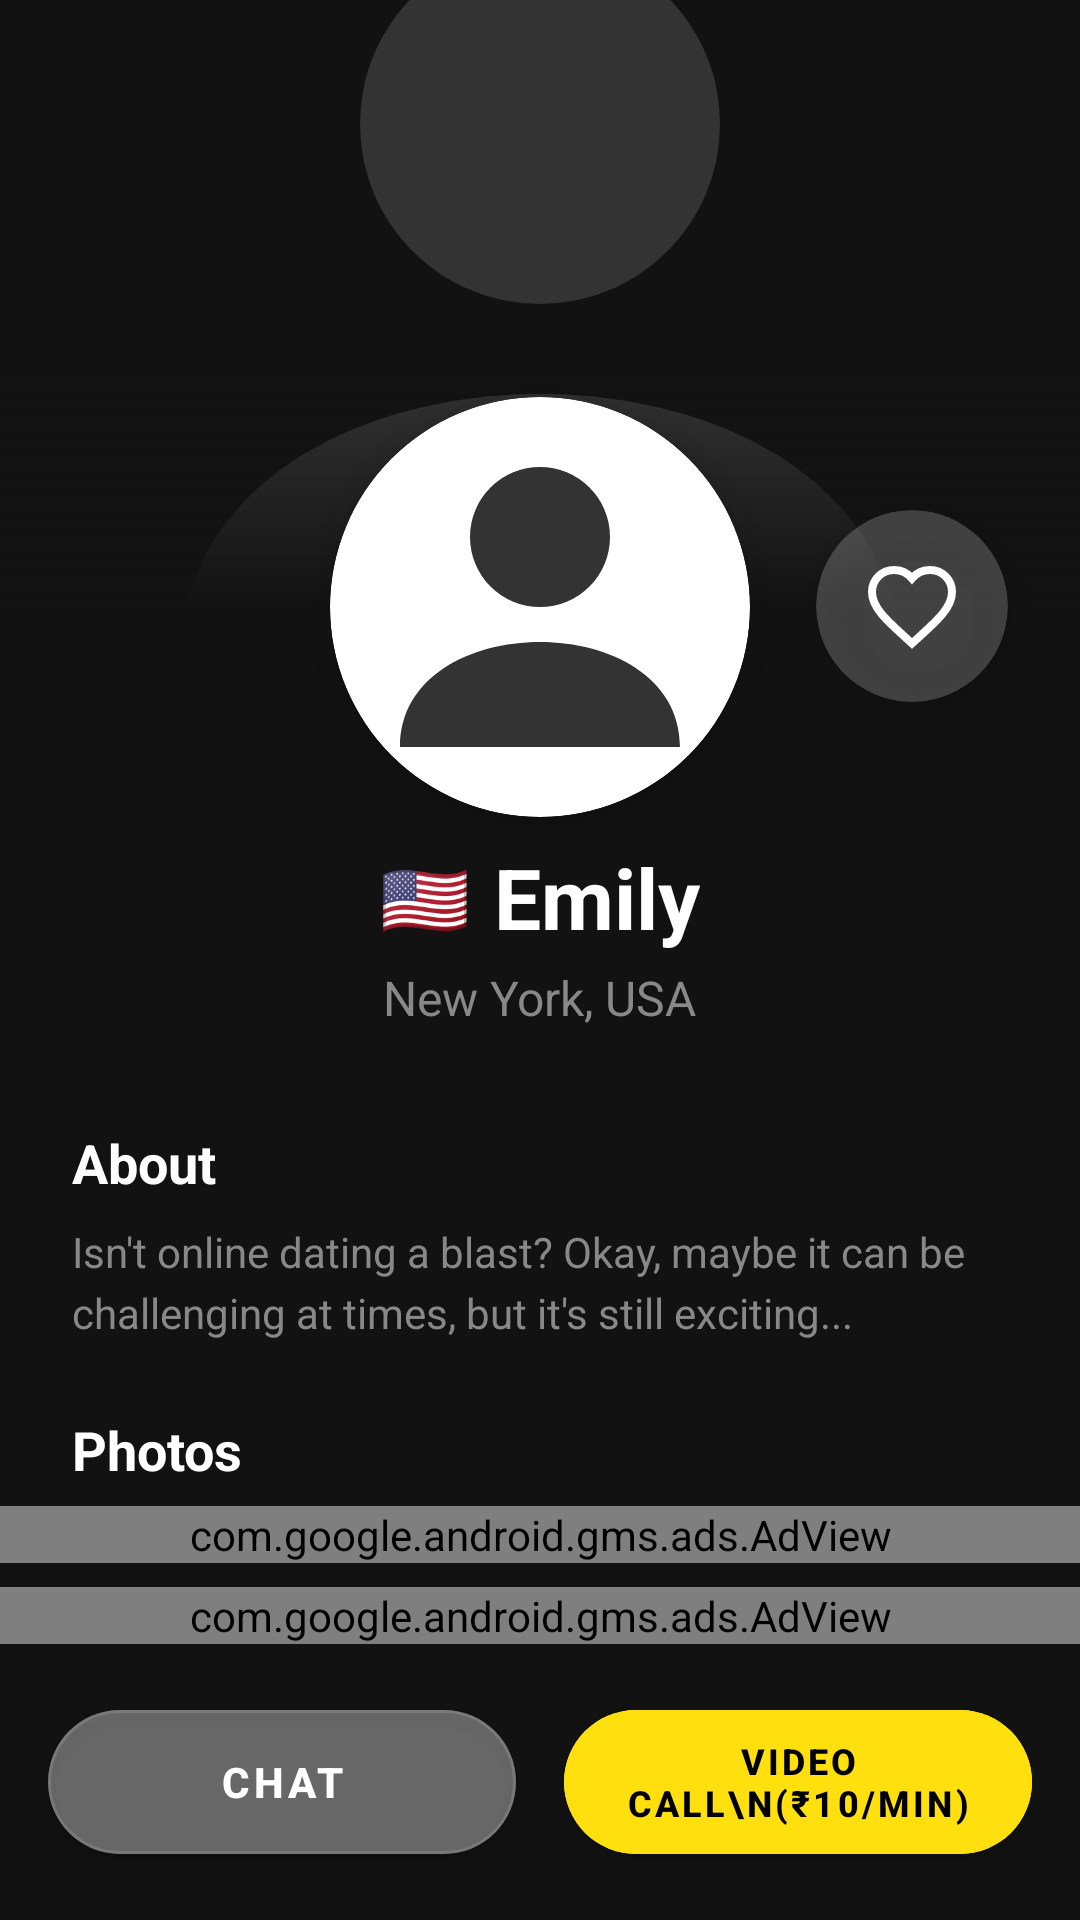

Named icons in this screenshot (1080 × 1920) and their bounding boxes, box(x1, y1, x2, y2):
heart: box(816, 510, 1008, 702)
